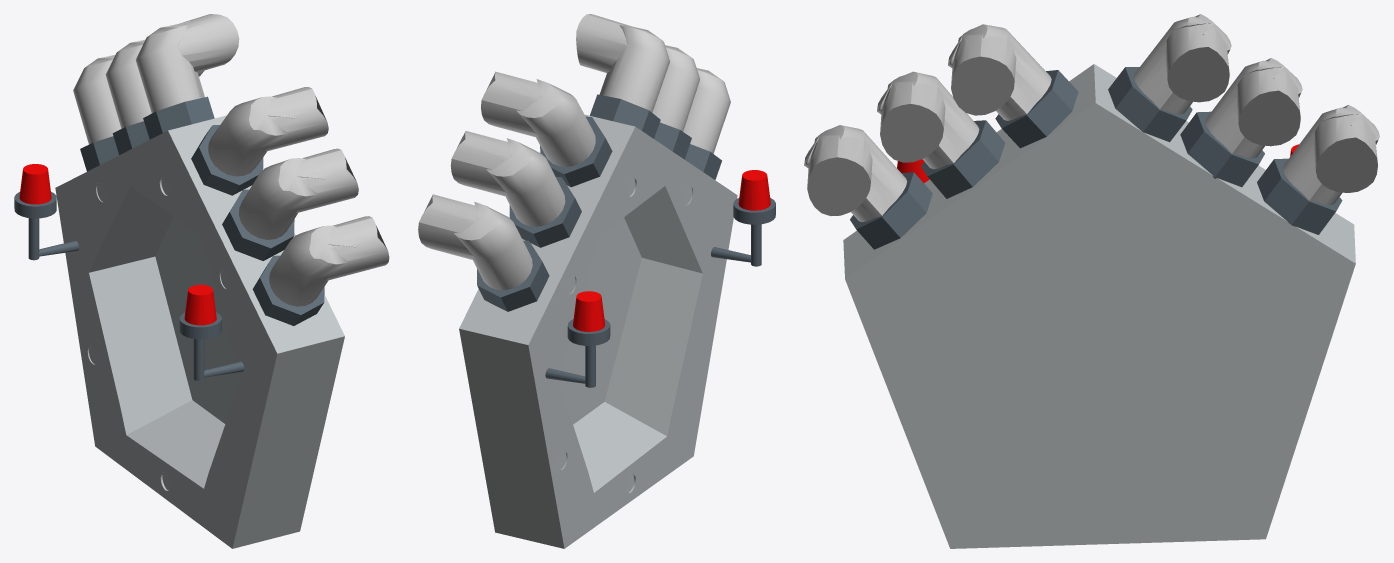
The model's file is portalEstructura.obj.
3 renders of one model, left to right at view 1: azimuth 30°, elevation 25°; view 2: azimuth 150°, elevation 25°; view 3: azimuth 270°, elevation 25°, orthographic. The views are drawn at different scales.
Visible parts, largest first — view 1: polySurface14, polySurface23, polySurface21, polySurface27, polySurface26, polySurface29, polySurface28, polySurface3, polySurface15, polySurface16, polySurface6; view 2: polySurface14, polySurface29, polySurface28, polySurface27, polySurface26, polySurface23, polySurface21, polySurface15, polySurface3, polySurface6, polySurface16; view 3: polySurface14, polySurface26, polySurface23, polySurface21, polySurface29, polySurface27, polySurface28.
Part boxes in pixels (<box>): polySurface14: <box>55,115,344,548</box>; polySurface23: <box>222,148,358,260</box>; polySurface21: <box>252,216,389,325</box>; polySurface27: <box>136,14,239,139</box>; polySurface26: <box>191,87,328,195</box>; polySurface29: <box>73,55,121,171</box>; polySurface28: <box>105,40,204,154</box>; polySurface3: <box>179,284,221,339</box>; polySurface15: <box>14,164,56,218</box>; polySurface16: <box>28,218,79,260</box>; polySurface6: <box>193,339,244,380</box>; polySurface14: <box>459,114,737,548</box>; polySurface29: <box>418,194,549,311</box>; polySurface28: <box>450,131,581,247</box>; polySurface27: <box>481,71,612,187</box>; polySurface26: <box>576,14,669,138</box>; polySurface23: <box>652,45,699,159</box>; polySurface21: <box>683,68,730,179</box>; polySurface15: <box>567,291,610,345</box>; polySurface3: <box>733,170,775,224</box>; polySurface6: <box>711,224,761,266</box>; polySurface16: <box>545,345,595,387</box>; polySurface14: <box>843,64,1355,548</box>; polySurface26: <box>948,24,1078,148</box>; polySurface23: <box>877,71,1005,198</box>; polySurface21: <box>804,125,932,249</box>; polySurface29: <box>1257,105,1379,234</box>; polySurface27: <box>1108,14,1231,142</box>; polySurface28: <box>1180,58,1302,187</box>.
Bounding box in the file's own units: 3.58 × 9.09 × 9.16.
